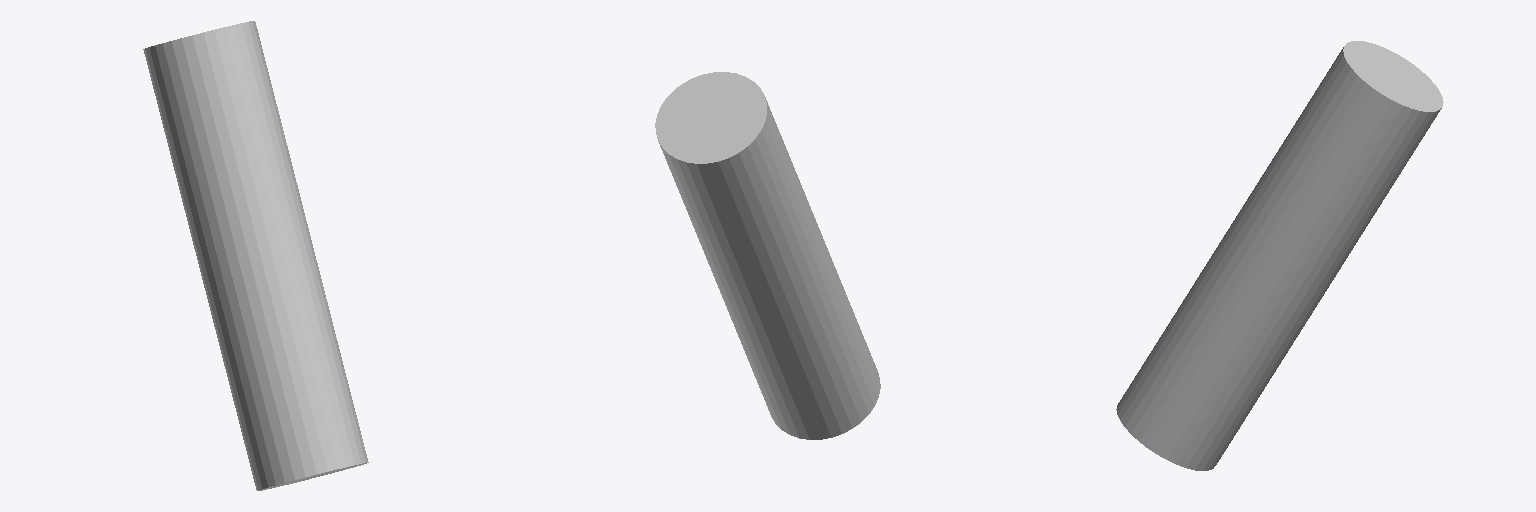
The model's file is arm-right-upper.obj.
The picture shows the model from 3 angles: view 1: azimuth 30°, elevation 25°; view 2: azimuth 150°, elevation 25°; view 3: azimuth 270°, elevation 25°; orthographic projection.
Parts seen in each view (by area): view 1: Arm_Right_Upper_Cylinder.017; view 2: Arm_Right_Upper_Cylinder.017; view 3: Arm_Right_Upper_Cylinder.017.
Boxes of the visible parts, x1=… form: Arm_Right_Upper_Cylinder.017: x1=143, y1=21, x2=368, y2=490; Arm_Right_Upper_Cylinder.017: x1=655, y1=72, x2=880, y2=439; Arm_Right_Upper_Cylinder.017: x1=1116, y1=41, x2=1443, y2=470.
Size of the model in its own units: 0.0322 by 0.1264 by 0.0911.